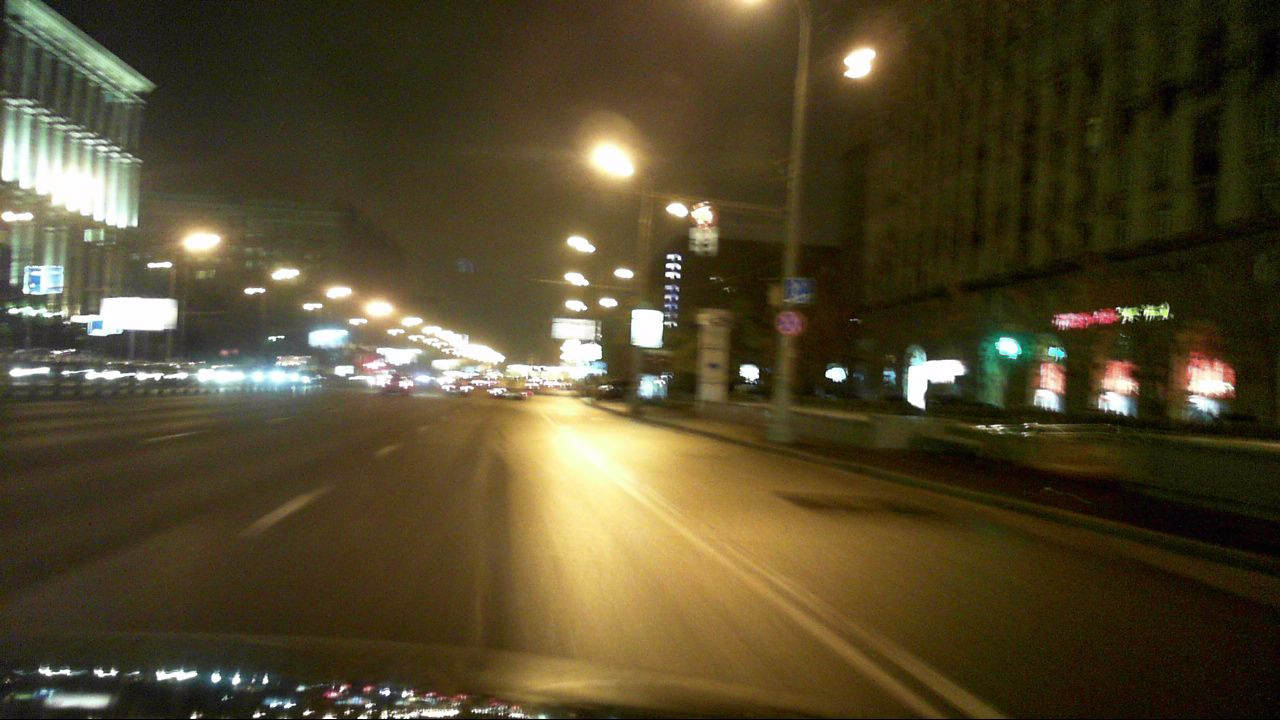No Parking: (774, 309, 801, 335)
